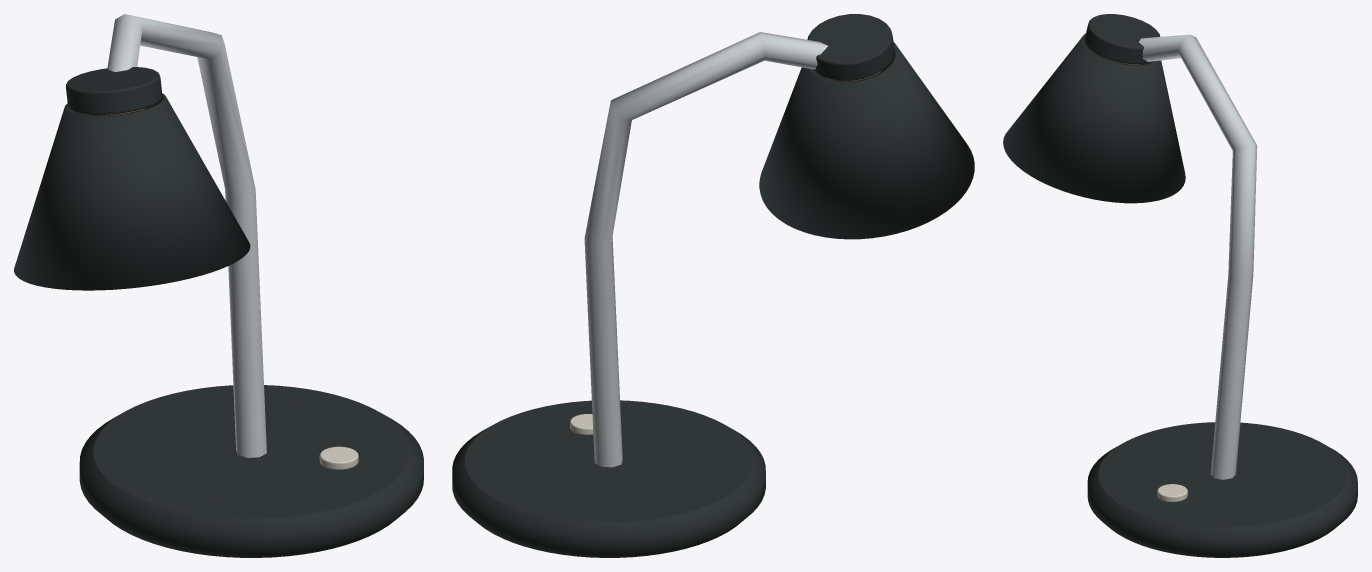
The model's file is lamp.glb.
3 renders of one model, left to right at view 1: azimuth 30°, elevation 25°; view 2: azimuth 150°, elevation 25°; view 3: azimuth 270°, elevation 25°, orthographic. The views are drawn at different scales.
Visible parts, largest first — view 1: Lamp | weighted circular base, Task head | open metal shade, Gooseneck | flexible neck, Task head | top cap, Gooseneck | base switch; view 2: Lamp | weighted circular base, Task head | open metal shade, Gooseneck | flexible neck, Task head | top cap; view 3: Lamp | weighted circular base, Task head | open metal shade, Gooseneck | flexible neck, Task head | top cap, Gooseneck | base switch.
Part boxes in pixels (bbox=[...]): Lamp | weighted circular base: bbox=[79, 385, 423, 557]; Task head | open metal shade: bbox=[14, 93, 250, 290]; Gooseneck | flexible neck: bbox=[107, 14, 266, 457]; Task head | top cap: bbox=[65, 67, 162, 114]; Gooseneck | base switch: bbox=[319, 446, 358, 469]; Lamp | weighted circular base: bbox=[452, 400, 765, 557]; Task head | open metal shade: bbox=[759, 41, 974, 239]; Gooseneck | flexible neck: bbox=[584, 32, 827, 467]; Task head | top cap: bbox=[807, 14, 894, 80]; Lamp | weighted circular base: bbox=[1087, 422, 1357, 557]; Task head | open metal shade: bbox=[1003, 33, 1185, 203]; Gooseneck | flexible neck: bbox=[1139, 34, 1257, 479]; Task head | top cap: bbox=[1084, 14, 1160, 64]; Gooseneck | base switch: bbox=[1157, 484, 1187, 502].
Size of the model in its own units: 0.295 by 0.3277 by 0.2546.
Materials: 5 (5 with a texture image).
